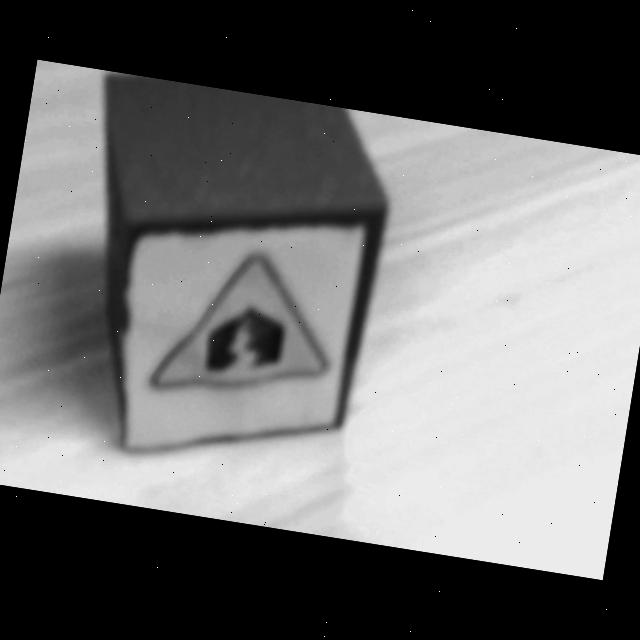Earthquake: (150, 254, 329, 396)
